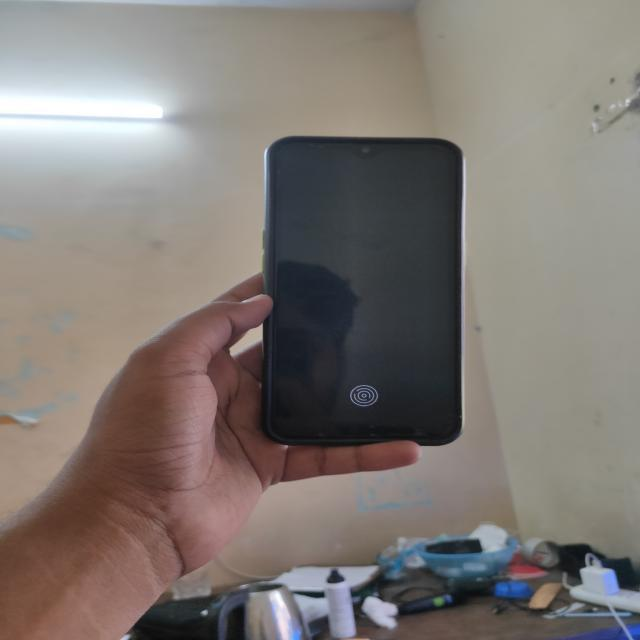Phone: (255, 131, 469, 448)
